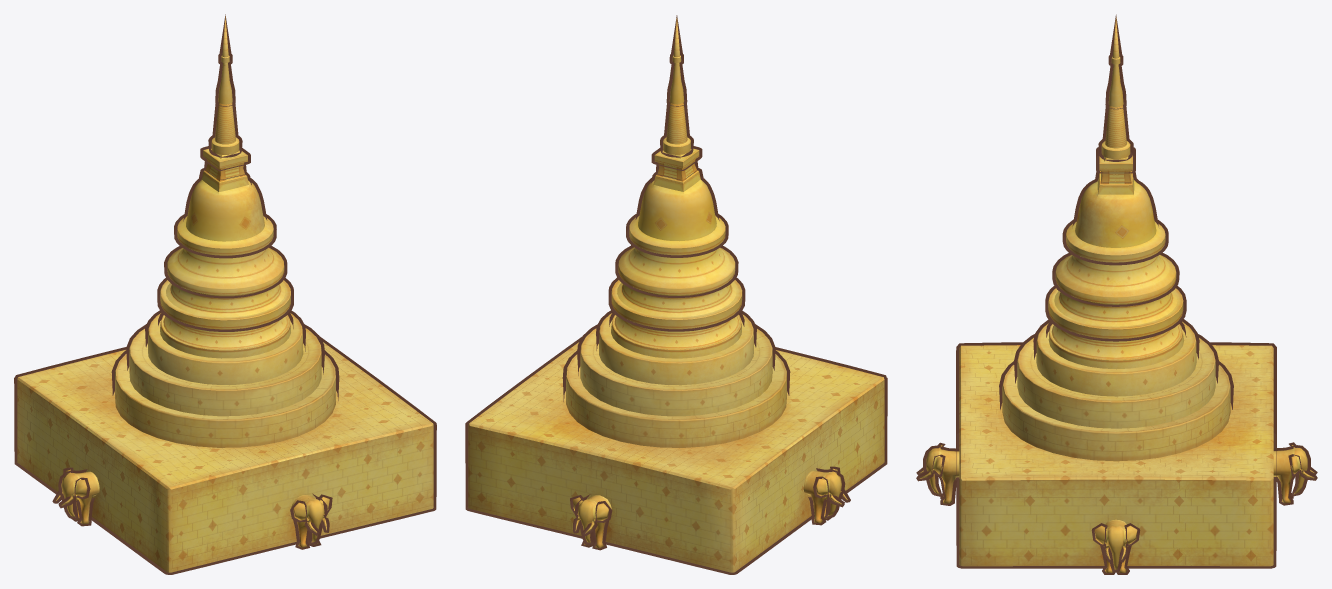
The model's file is pagoda.glb.
3 views of the same model, side by side, from view 1: azimuth 30°, elevation 25°; view 2: azimuth 150°, elevation 25°; view 3: azimuth 270°, elevation 25° (orthographic). The views are drawn at different scales.
Parts seen in each view (by area): view 1: Cube.002; view 2: Cube.002; view 3: Cube.002.
Boxes of the visible parts, x1,y1,x2,y2 form: Cube.002: (14,14,436,574); Cube.002: (465,15,887,574); Cube.002: (916,14,1317,574).
Bounding box in the file's own units: 3.28 × 4.36 × 3.25.
Materials: 2 (1 with a texture image).
